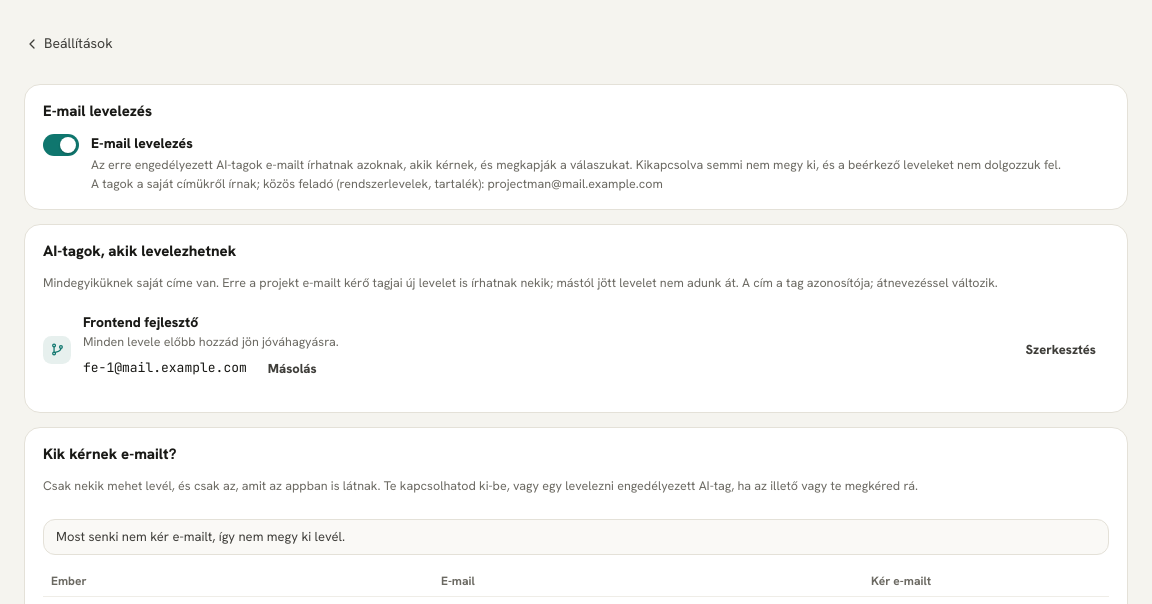
the e-mail settings section › the address of a member (PM-989) › says to copy by hand when the clipboard is refused
Click the button with aria-label "címének másolása": {"x": 292, "y": 368} [255,350,330,386]
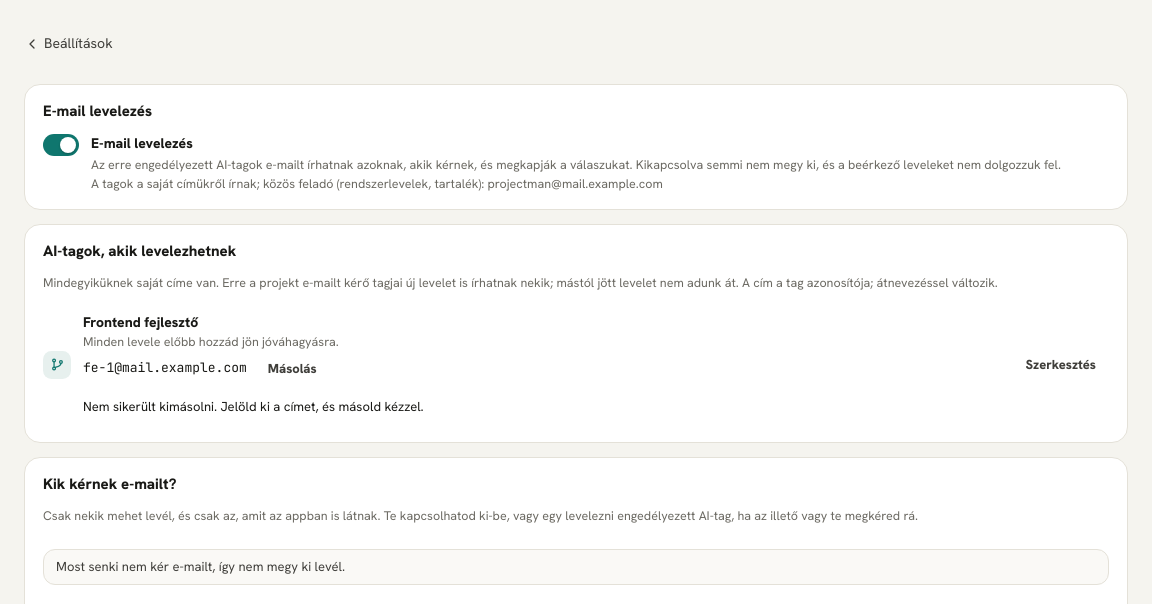
Expected: the message "Nem sikerült kimásolni. Jelöld ki a címet, és másold kézzel." is shown, [83,398,424,415]
